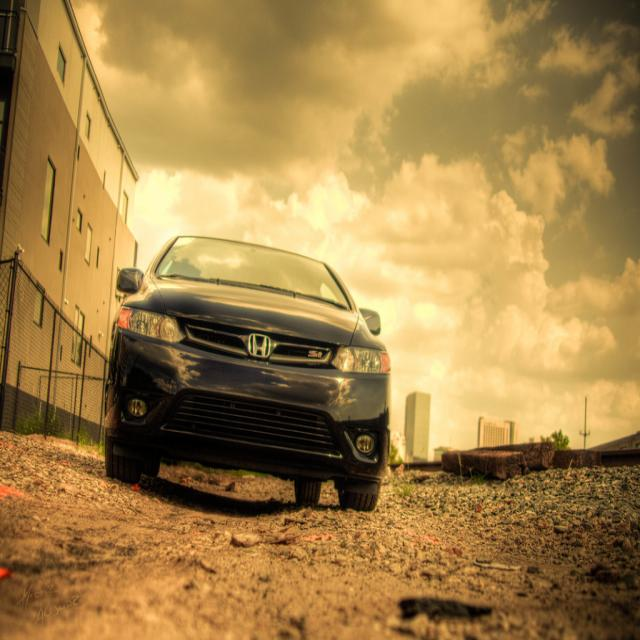car: (102, 235, 389, 510)
